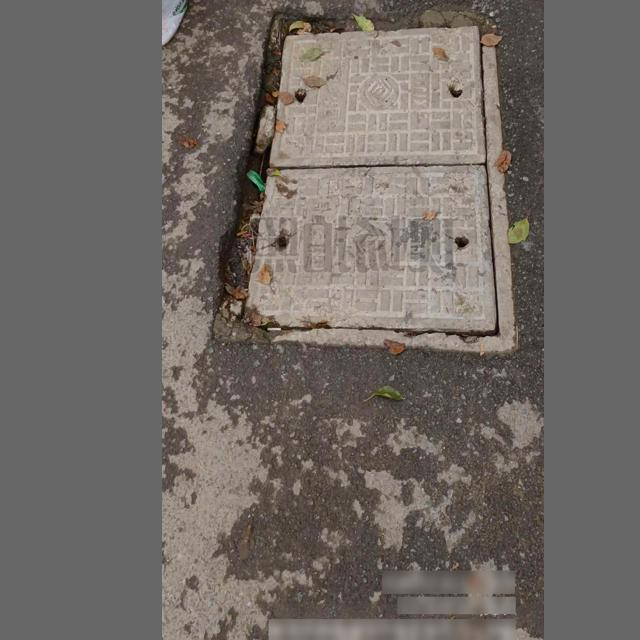circle: (210, 11, 513, 351)
